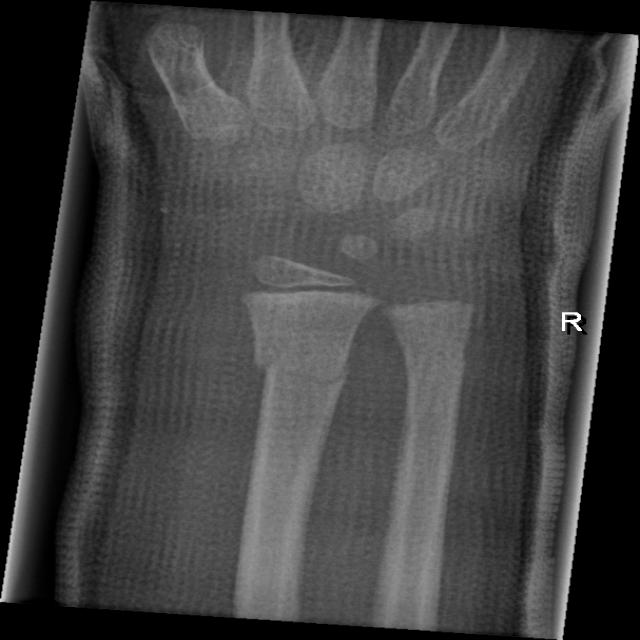radius fracture: (223, 315, 373, 485)
